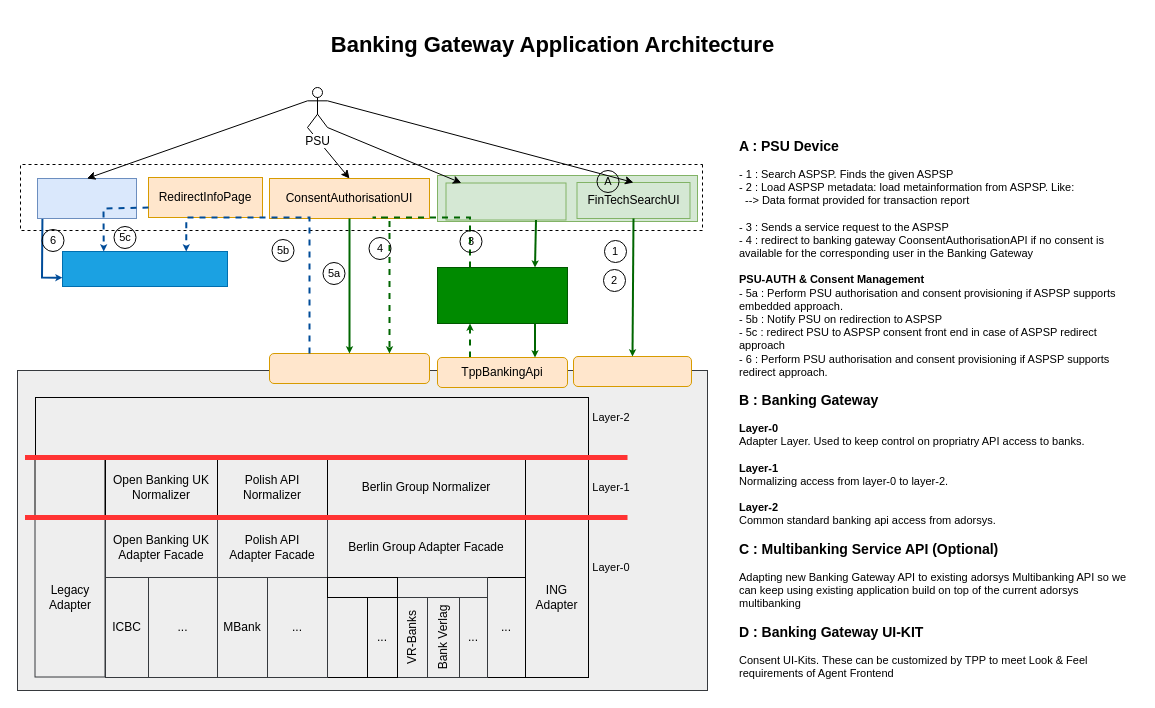
Some shapes in this 1155 by 708 pixel diagram are drawn without their labels. Each missing label, with the box of its shape:
Adorsys Banking Facade: (34, 396, 588, 458)
AT: (326, 576, 398, 598)
ConsentAuthorisationAPI: (268, 352, 430, 384)
DE: (396, 576, 488, 598)
FinTechAPI: (436, 266, 568, 324)
FinTechUI: (445, 182, 566, 220)
ING Normalizer: (524, 456, 588, 518)
Legacy Normalizer: (34, 456, 105, 517)
OnlineBankingAPI: (62, 250, 228, 286)
OnlineBankingUI: (36, 178, 136, 218)
TppBankSearchAPI: (572, 356, 692, 386)
Volksbank: (326, 596, 368, 678)
